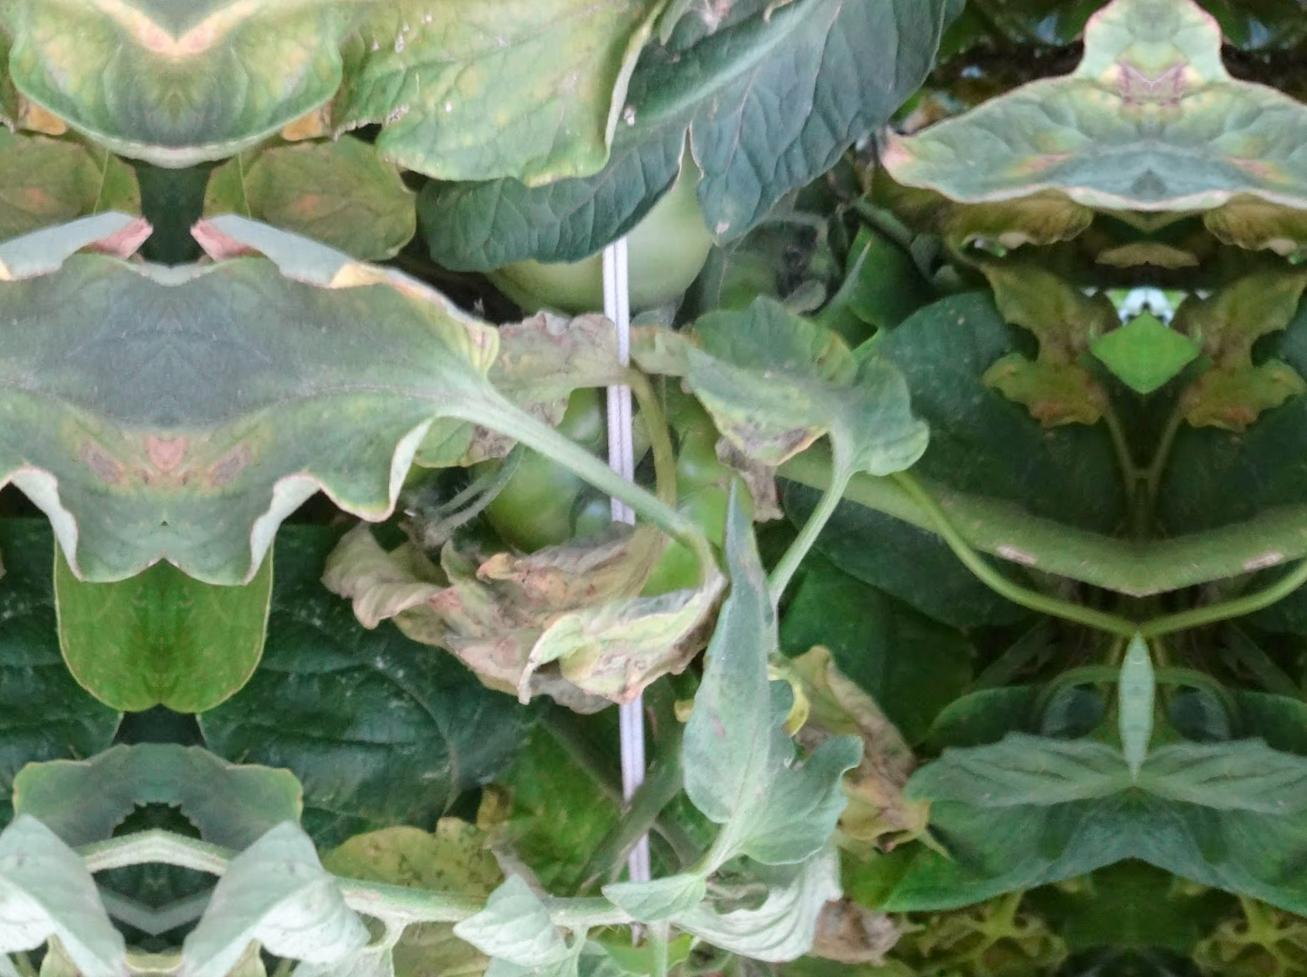Tomato leaf late blight: (163, 221, 552, 585), (681, 477, 882, 883), (858, 0, 1157, 267), (646, 286, 945, 496)
